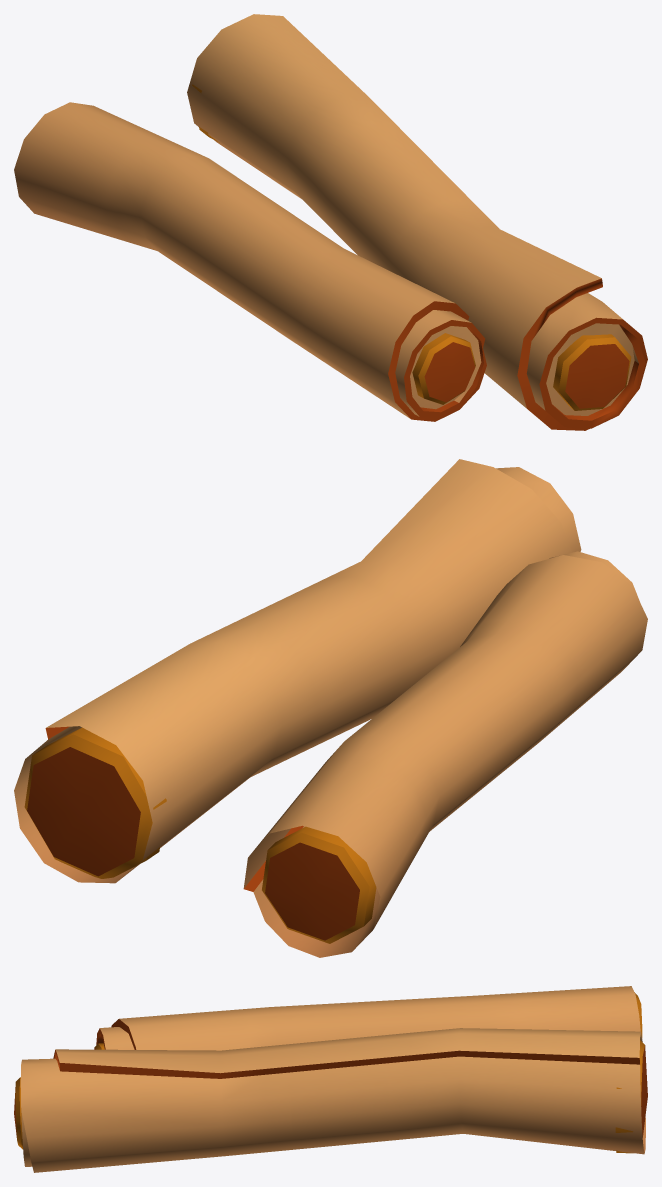
The picture shows the model from 3 angles, top to bottom: view 1: azimuth 30°, elevation 25°; view 2: azimuth 150°, elevation 25°; view 3: azimuth 270°, elevation 25°; orthographic projection. The views are drawn at different scales.
Parts seen in each view (by area): view 1: diorama.010; view 2: diorama.010; view 3: diorama.010.
Part boxes in pixels (<box>): diorama.010: <box>14,14,647,430</box>; diorama.010: <box>14,459,647,957</box>; diorama.010: <box>14,986,647,1172</box>.
Bounding box in the file's own units: 82.21 × 41.07 × 173.
